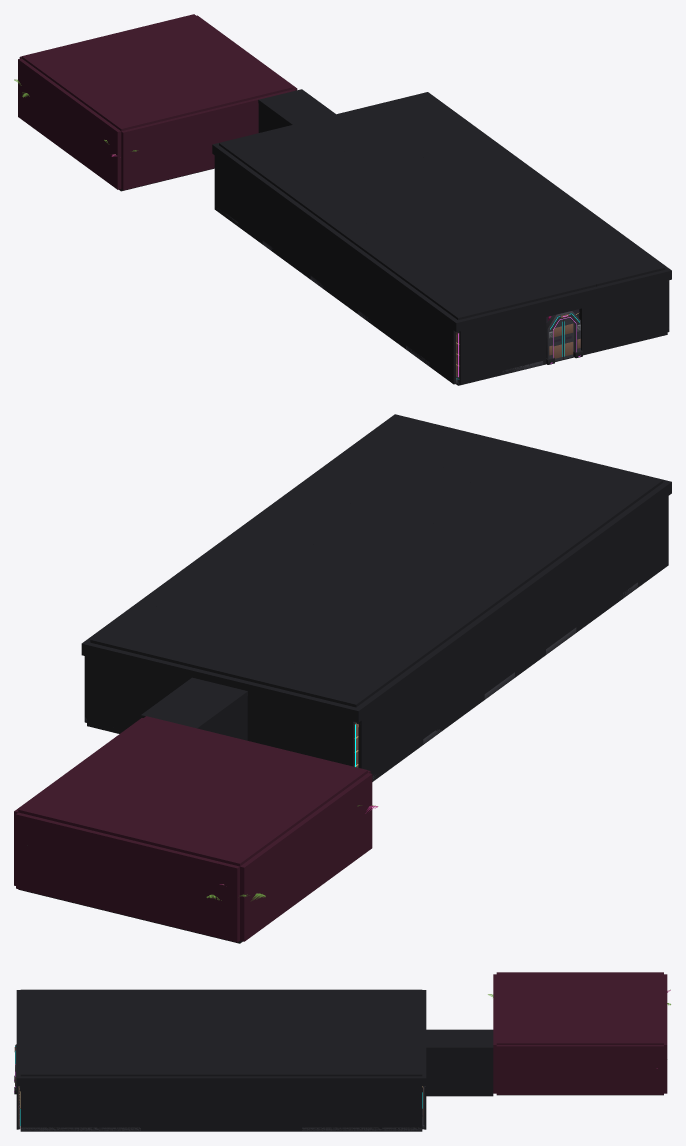
The model's file is boate.glb.
3 views of the same model, one above another, from view 1: azimuth 30°, elevation 25°; view 2: azimuth 150°, elevation 25°; view 3: azimuth 270°, elevation 25° (orthographic). The views are drawn at different scales.
Visible parts, largest first — view 1: JAC_35_Teto, JAC_33_Parede_Esquerda_recorte, JAC_32_Parede_Fundo, FILL_faixa_esq, KIT_Teto_Modulo.005, KIT_Teto_Modulo.017, KIT_Teto_Modulo.011, KIT_Teto_Modulo.002, KIT_Teto_Modulo.004, KIT_Teto_Modulo, KIT_Teto_Modulo.003, KIT_Teto_Modulo.001 (+29 smaller); view 2: JAC_35_Teto, JAC_34_Parede_Direita, JAC_32_Parede_Fundo, FILL_faixa_esq, KIT_Teto_Modulo, KIT_Teto_Modulo.012, KIT_Teto_Modulo.006, KIT_Teto_Modulo.001, KIT_Teto_Modulo.005, KIT_Teto_Modulo.003, KIT_Teto_Modulo.002, KIT_Teto_Modulo.004 (+28 smaller); view 3: JAC_35_Teto, JAC_34_Parede_Direita.001, FILL_faixa_dir, KIT_Teto_Modulo.012, KIT_Teto_Modulo.013, KIT_Teto_Modulo.014, KIT_Teto_Modulo.016, KIT_Teto_Modulo.017, KIT_Teto_Modulo.015, KIT_Teto_Modulo, KIT_Teto_Modulo.001, KIT_Teto_Modulo.002 (+26 smaller).
Boxes of the visible parts, left/top/right/bottom form: JAC_35_Teto: left=21, top=14, right=293, bottom=131; JAC_33_Parede_Esquerda_recorte: left=121, top=89, right=295, bottom=190; JAC_32_Parede_Fundo: left=18, top=58, right=121, bottom=189; FILL_faixa_esq: left=212, top=145, right=457, bottom=331; KIT_Teto_Modulo.005: left=418, top=272, right=526, bottom=320; KIT_Teto_Modulo.017: left=557, top=238, right=665, bottom=286; KIT_Teto_Modulo.011: left=487, top=255, right=595, bottom=303; KIT_Teto_Modulo.002: left=298, top=184, right=407, bottom=232; KIT_Teto_Modulo.004: left=378, top=243, right=486, bottom=290; KIT_Teto_Modulo: left=219, top=126, right=327, bottom=174; KIT_Teto_Modulo.003: left=338, top=214, right=446, bottom=261; KIT_Teto_Modulo.001: left=259, top=155, right=367, bottom=203; JAC_35_Teto: left=18, top=716, right=367, bottom=866; JAC_34_Parede_Direita: left=16, top=812, right=239, bottom=942; JAC_32_Parede_Fundo: left=240, top=773, right=372, bottom=941; FILL_faixa_esq: left=356, top=482, right=671, bottom=722; KIT_Teto_Modulo: left=267, top=646, right=407, bottom=707; KIT_Teto_Modulo.012: left=90, top=602, right=229, bottom=664; KIT_Teto_Modulo.006: left=179, top=624, right=318, bottom=685; KIT_Teto_Modulo.001: left=319, top=608, right=458, bottom=669; KIT_Teto_Modulo.005: left=523, top=458, right=663, bottom=519; KIT_Teto_Modulo.003: left=421, top=533, right=560, bottom=594; KIT_Teto_Modulo.002: left=370, top=571, right=509, bottom=631; KIT_Teto_Modulo.004: left=472, top=496, right=611, bottom=557; JAC_35_Teto: left=496, top=972, right=663, bottom=1044; JAC_34_Parede_Direita.001: left=496, top=1045, right=663, bottom=1094; FILL_faixa_dir: left=16, top=1076, right=426, bottom=1085; KIT_Teto_Modulo.012: left=355, top=1046, right=422, bottom=1076; KIT_Teto_Modulo.013: left=288, top=1046, right=355, bottom=1076; KIT_Teto_Modulo.014: left=221, top=1046, right=288, bottom=1076; KIT_Teto_Modulo.016: left=87, top=1046, right=154, bottom=1076; KIT_Teto_Modulo.017: left=20, top=1046, right=87, bottom=1076; KIT_Teto_Modulo.015: left=154, top=1046, right=221, bottom=1076; KIT_Teto_Modulo: left=355, top=989, right=422, bottom=1017; KIT_Teto_Modulo.001: left=288, top=989, right=355, bottom=1017; KIT_Teto_Modulo.002: left=221, top=989, right=288, bottom=1017.
Bounding box in the file's own units: 15.93 × 3.75 × 39.33.
